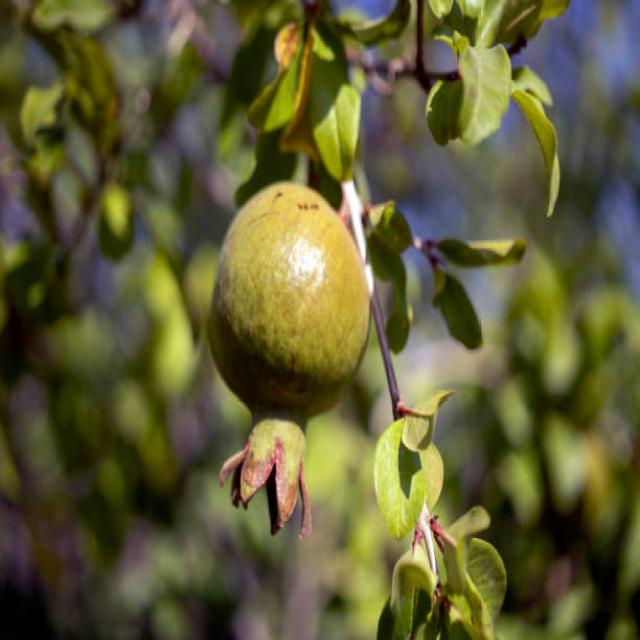Unripe: (208, 181, 372, 540)
